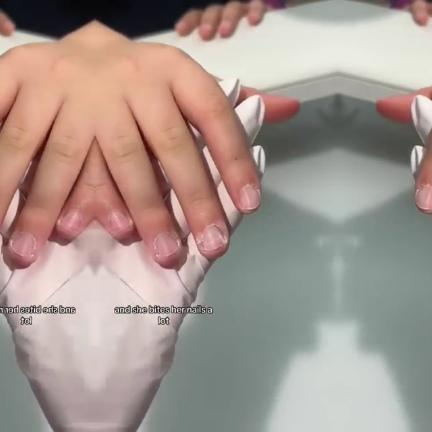Nail: (200, 225, 225, 252), (154, 233, 178, 258), (10, 233, 34, 258), (237, 184, 260, 209), (414, 184, 432, 209), (108, 211, 129, 232), (59, 211, 80, 232)
